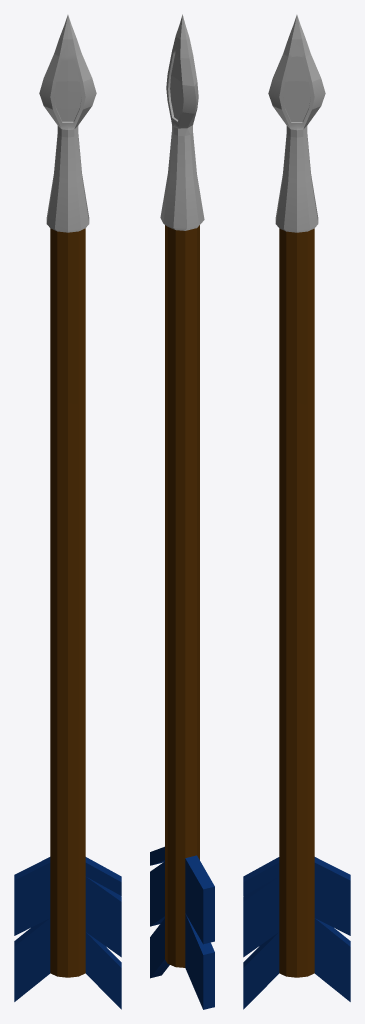
Rendered from Arrow.fbx.
3 views of the same model, side by side, from view 1: azimuth 90°, elevation 25°; view 2: azimuth 210°, elevation 25°; view 3: azimuth 270°, elevation 25° (orthographic).
Visible parts, largest first — view 1: pCylinder3; view 2: pCylinder3; view 3: pCylinder3.
Boxes of the visible parts, bbox=[...] form: pCylinder3: bbox=[14, 15, 121, 1009]; pCylinder3: bbox=[150, 14, 214, 1009]; pCylinder3: bbox=[243, 15, 350, 1009].
Size of the model in its own units: 1.31 by 32.01 by 3.14.
